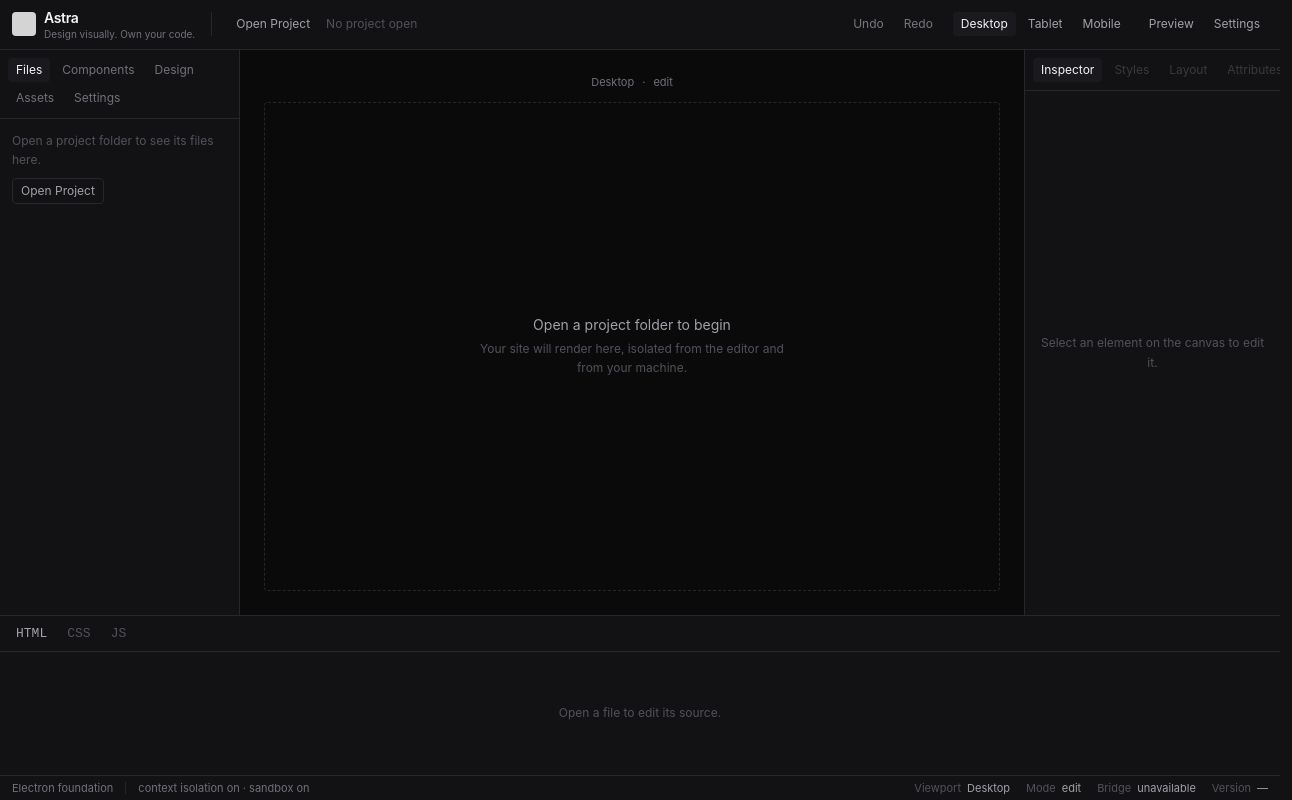
Scenario: App shell — viewport and preview › toggles the canvas between edit and preview mode
This screenshot has width=1292, height=800.
Expected: the text with test id "canvas-mode" reads "edit", [653,74,673,88]
Click the button with aria-label "toggle the preview". click: coordinates (1171, 24)
box: [1141,12,1202,36]
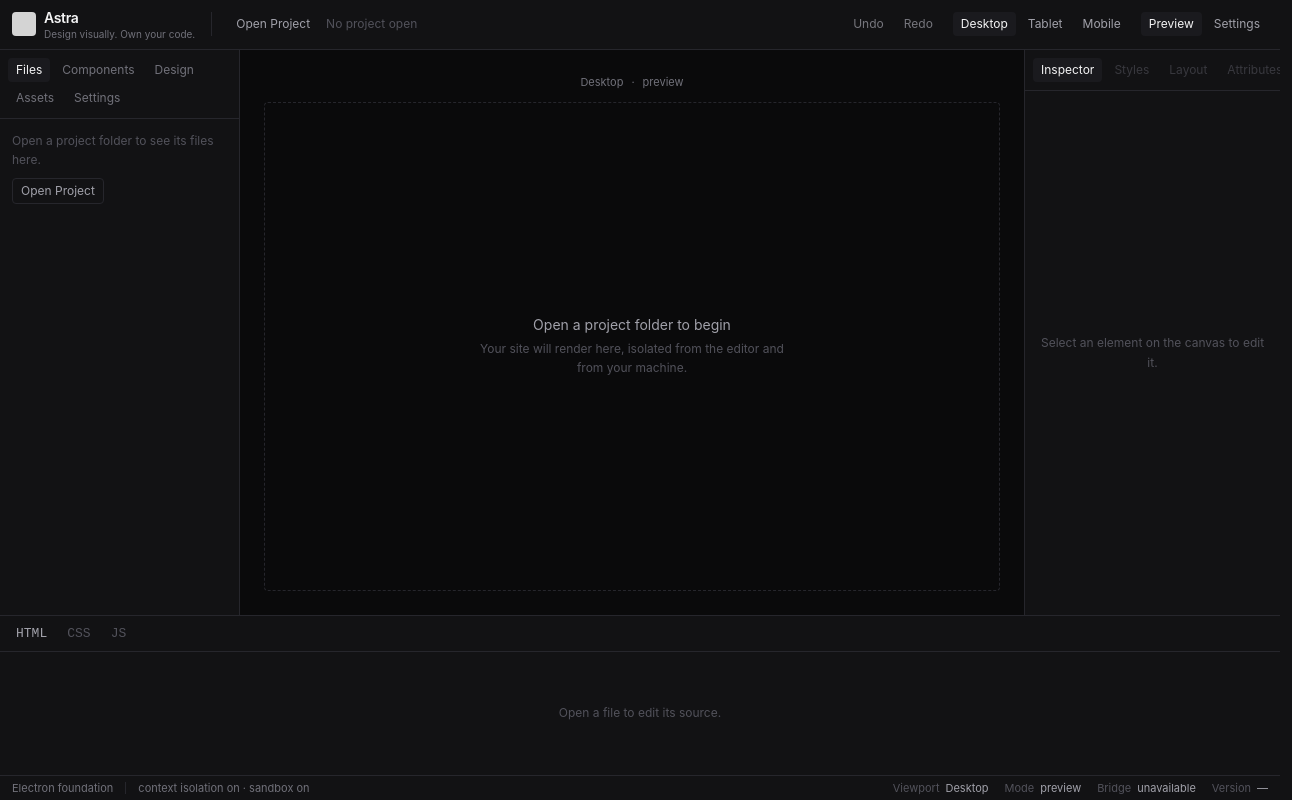
Now the text with test id "canvas-mode" reads "preview", box [643,74,684,88]
Now the text with test id "status-mode" reads "preview", box [1040,780,1081,794]
